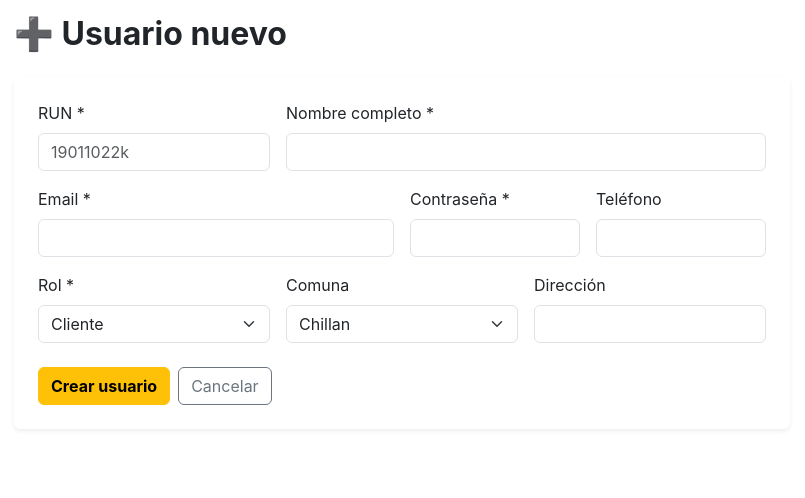
Test: UserNew - CRUD Create usuario › valida email con formato inválido
Type "no-es-email" into the field below "Email *" at (216, 238), box [38,219,394,257]
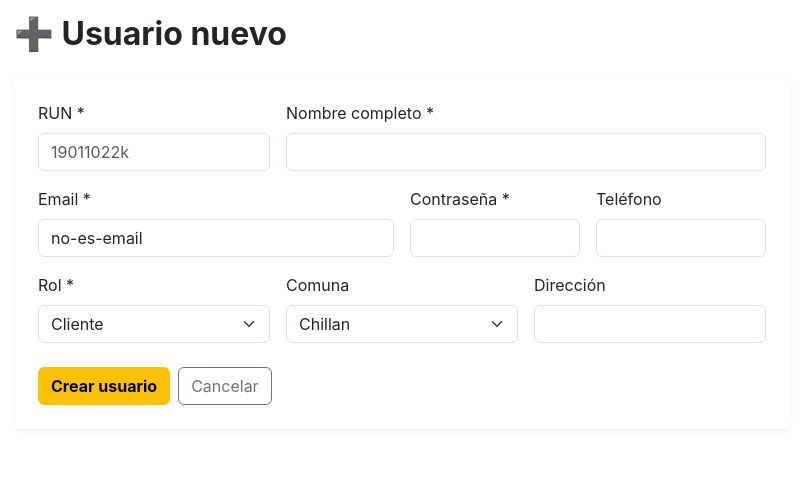
Click the button "Crear usuario" at (104, 386), box [38,367,170,405]
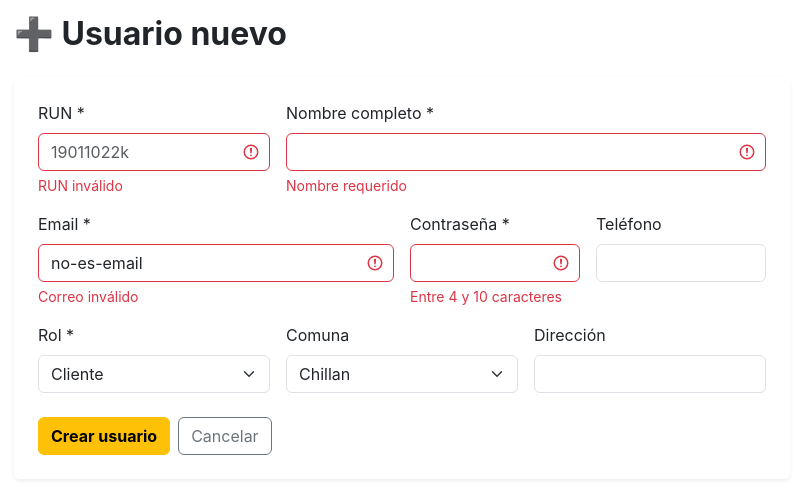
expect the text "Correo inválido" is shown: met, box [38,288,138,305]
